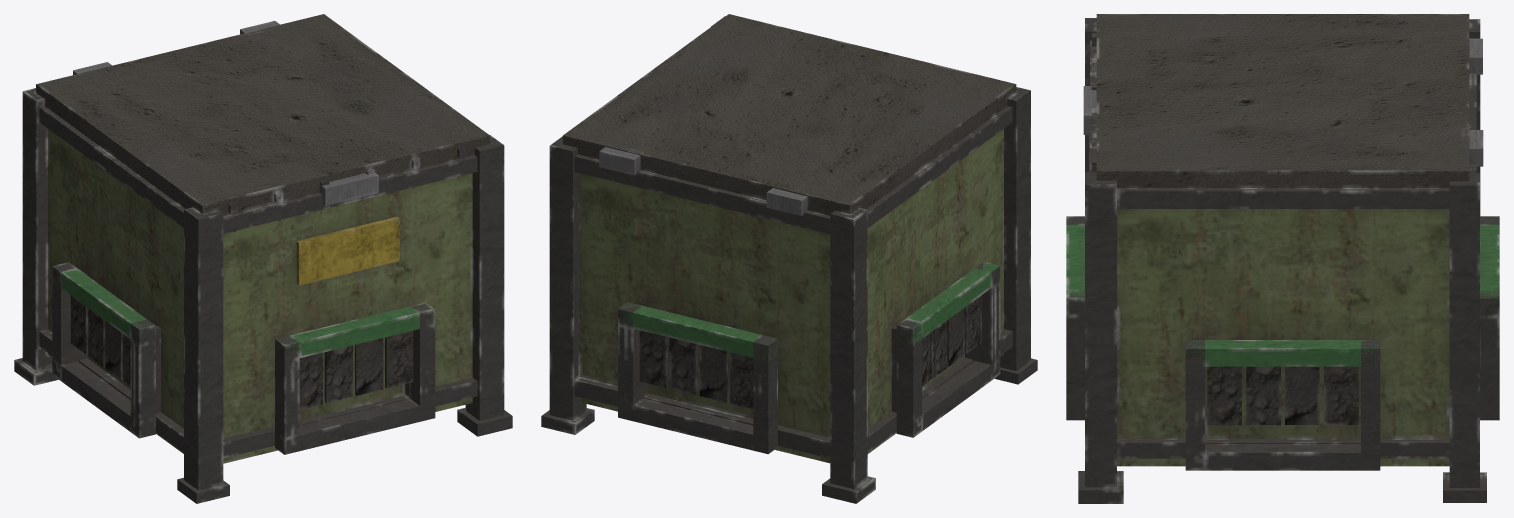
File: feBeltCrate_HD.fbx
3 views of the same model, side by side, from view 1: azimuth 30°, elevation 25°; view 2: azimuth 150°, elevation 25°; view 3: azimuth 270°, elevation 25° (orthographic). The views are drawn at different scales.
Parts seen in each view (by area): view 1: feBeltCrate_Base; view 2: feBeltCrate_Base; view 3: feBeltCrate_Base.
Part boxes in pixels (<box>): feBeltCrate_Base: <box>14,14,512,503</box>; feBeltCrate_Base: <box>541,14,1037,503</box>; feBeltCrate_Base: <box>1066,14,1499,503</box>.
Bounding box in the file's own units: 1 × 0.8274 × 1.
1 material, 1 textured.
